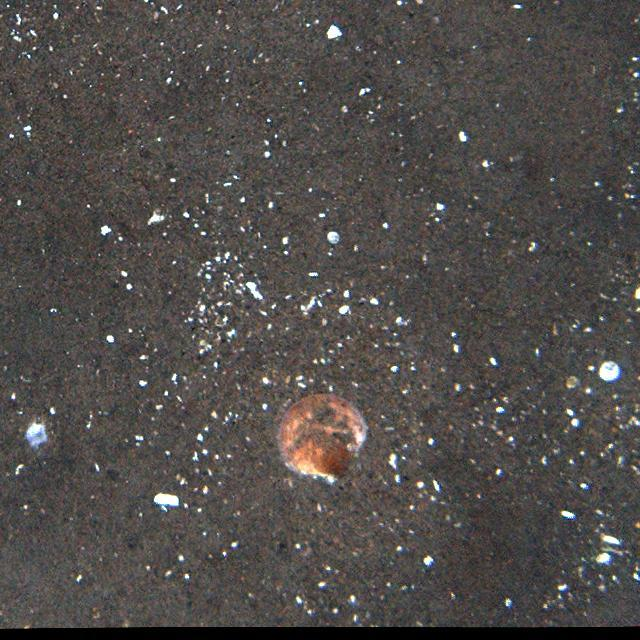scallop: (270, 385, 372, 483)
